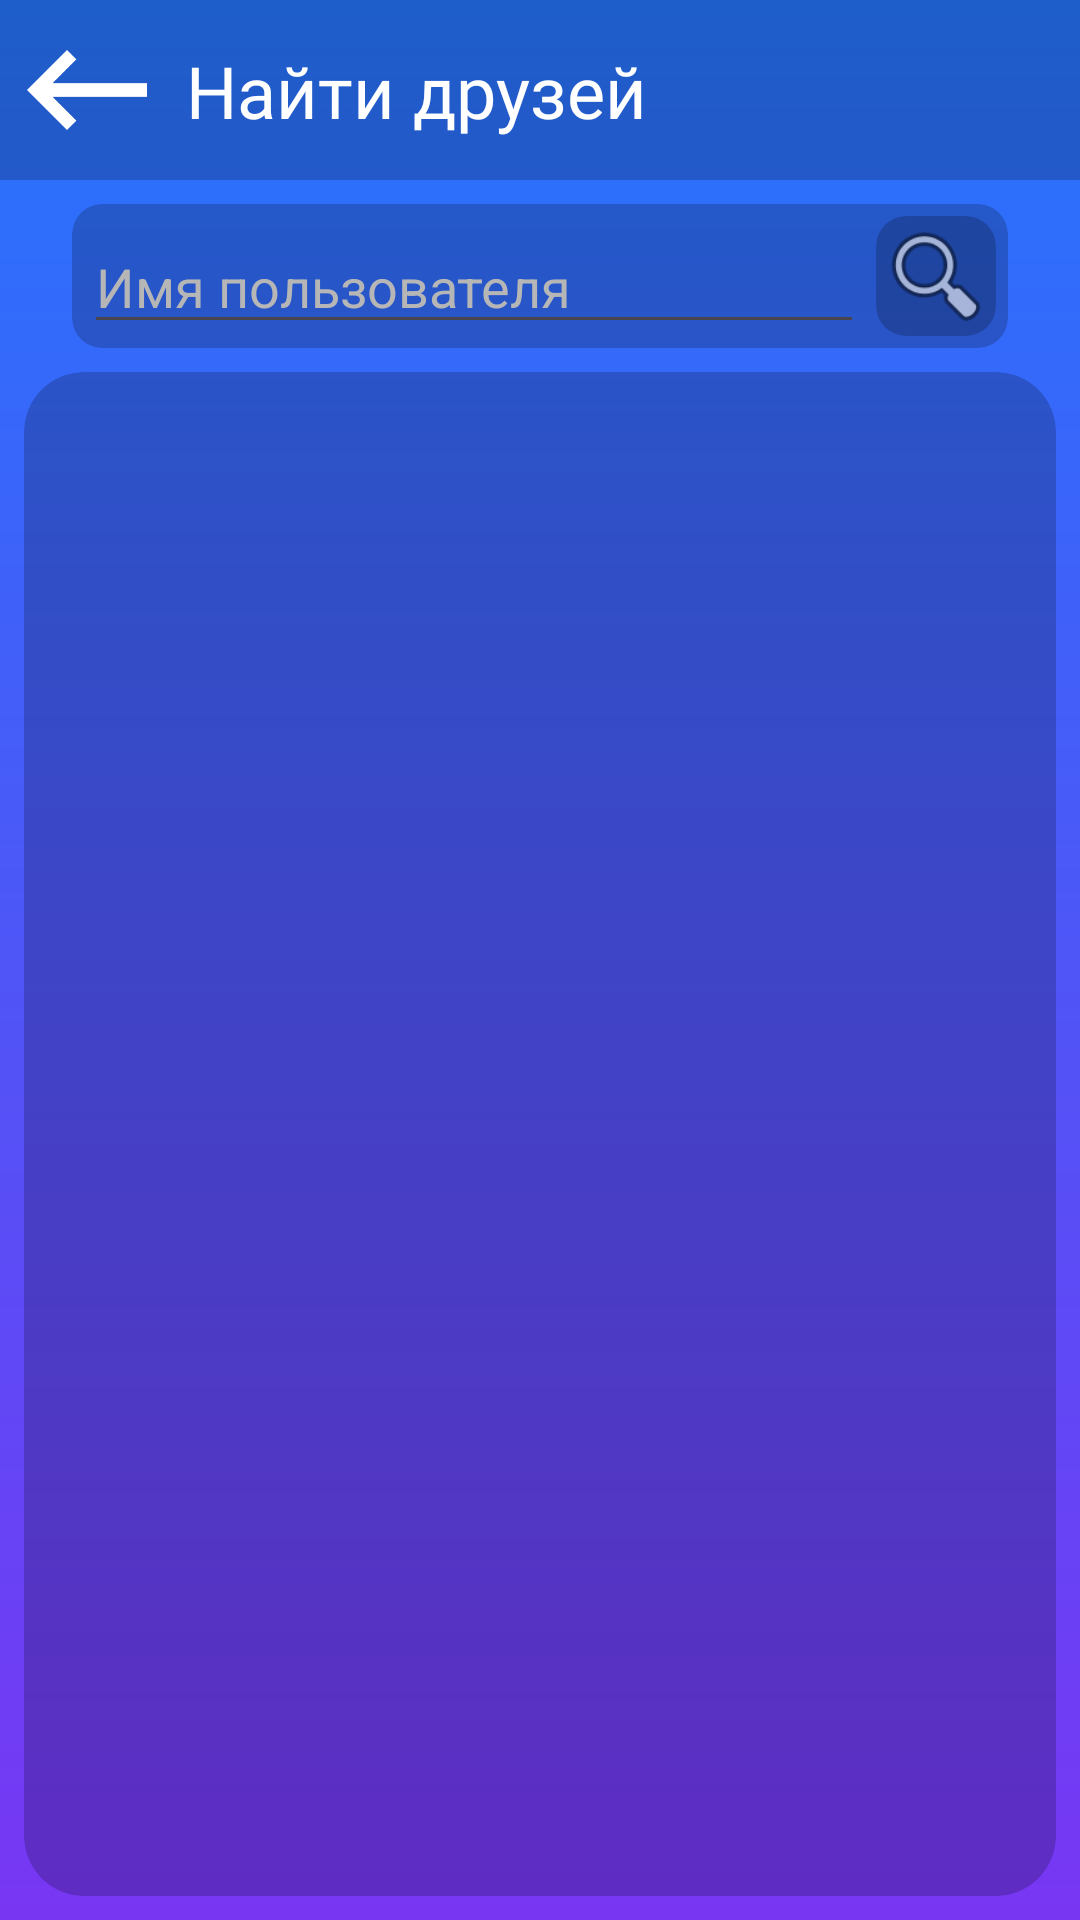

Icons on this 1080×1920 Android screen, each with the point to tap as (x,y):
back: (87,90)
search: (936,276)
